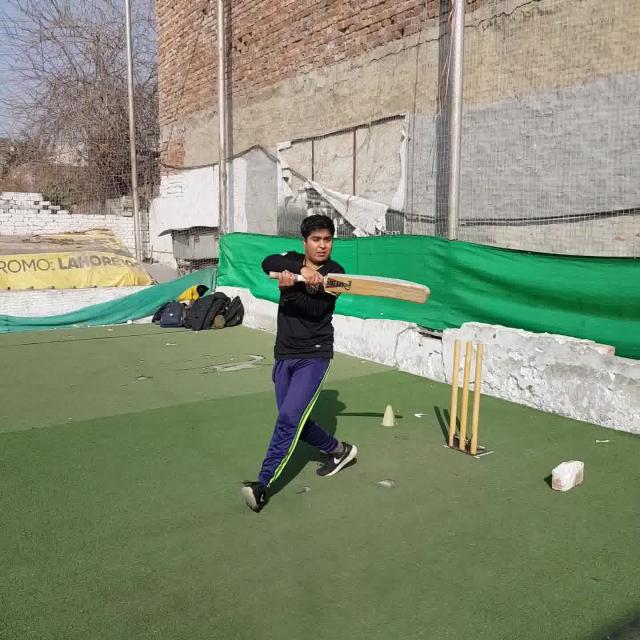bat: (270, 270, 430, 303)
